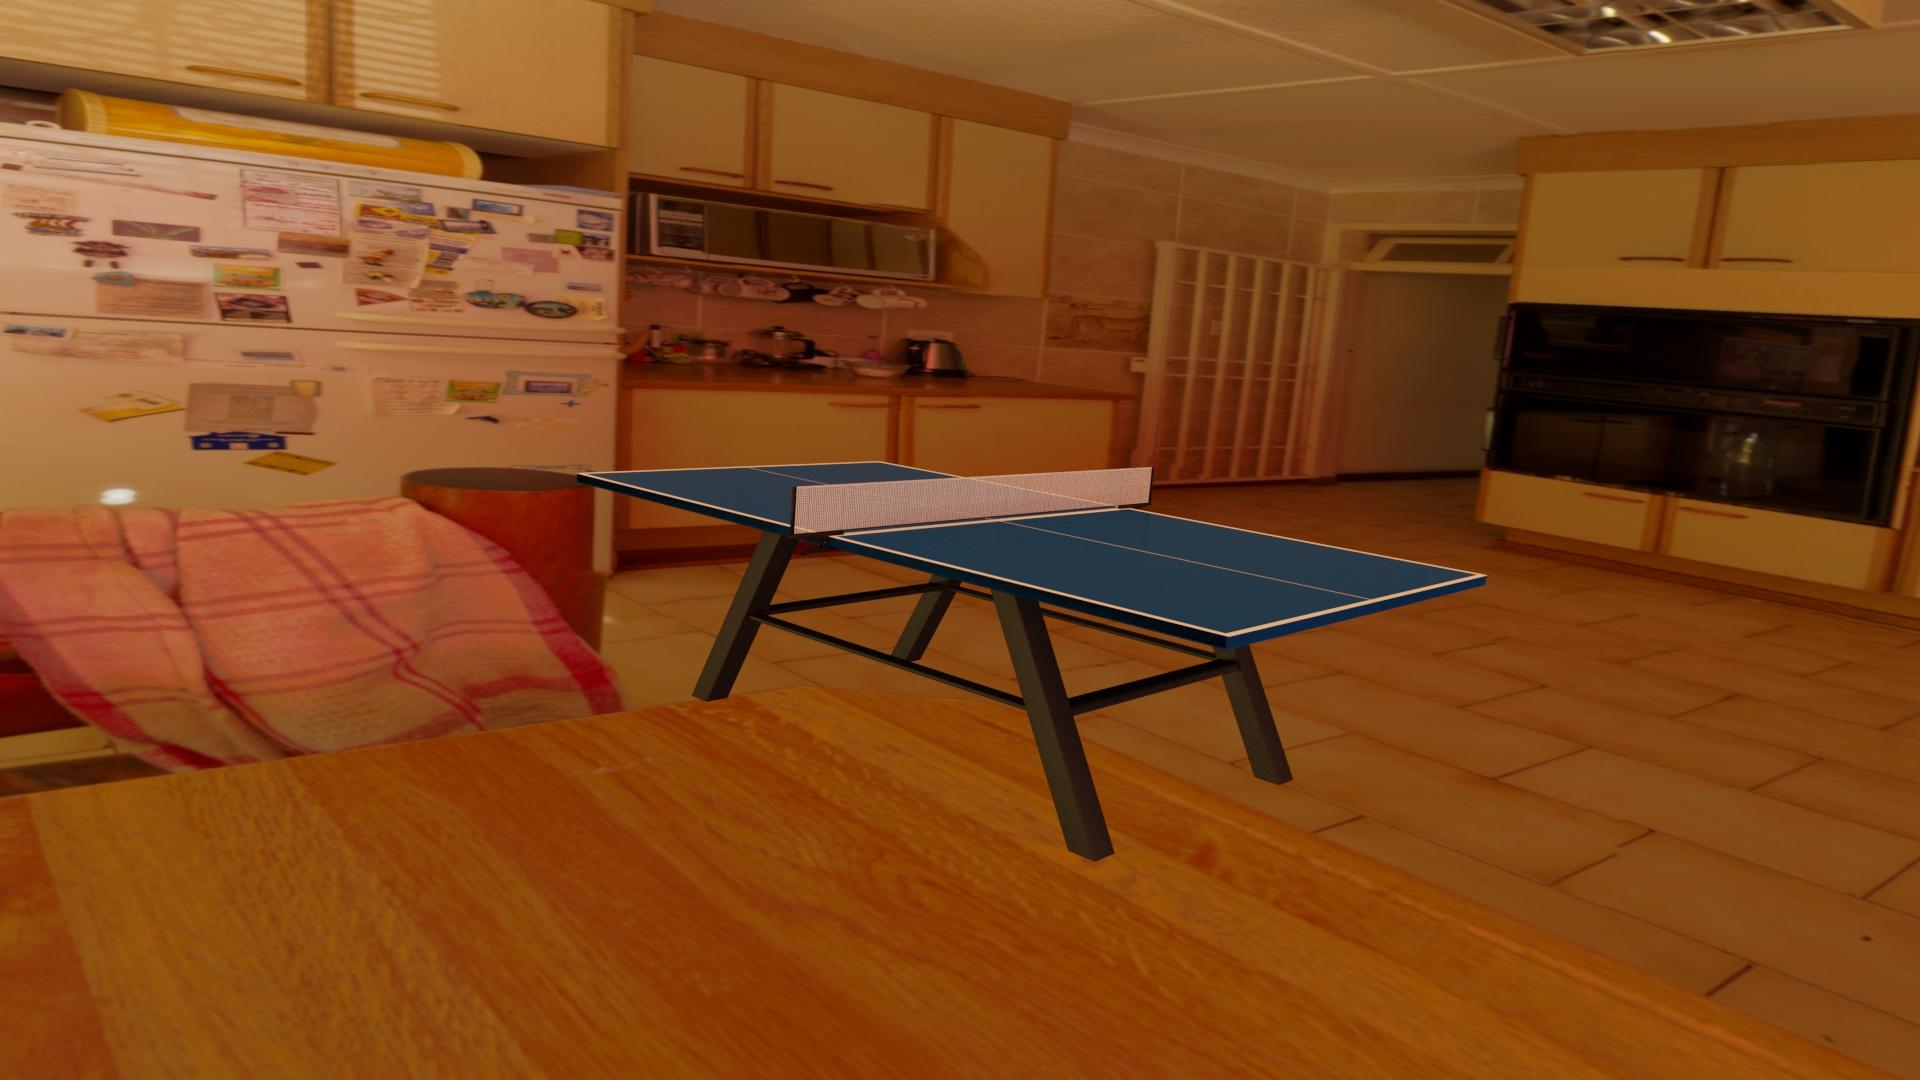table: (584, 462, 1478, 634)
